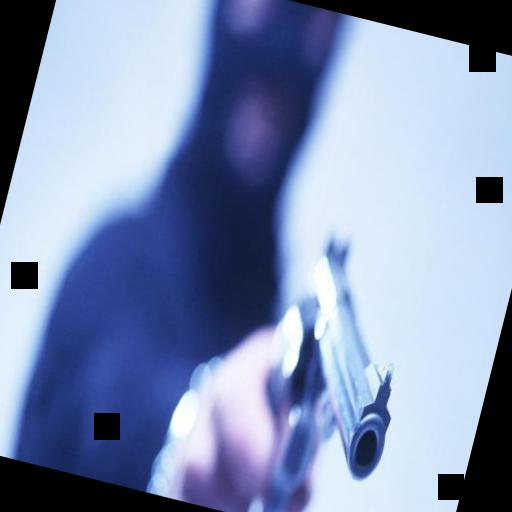Handgun: (231, 217, 435, 512)
